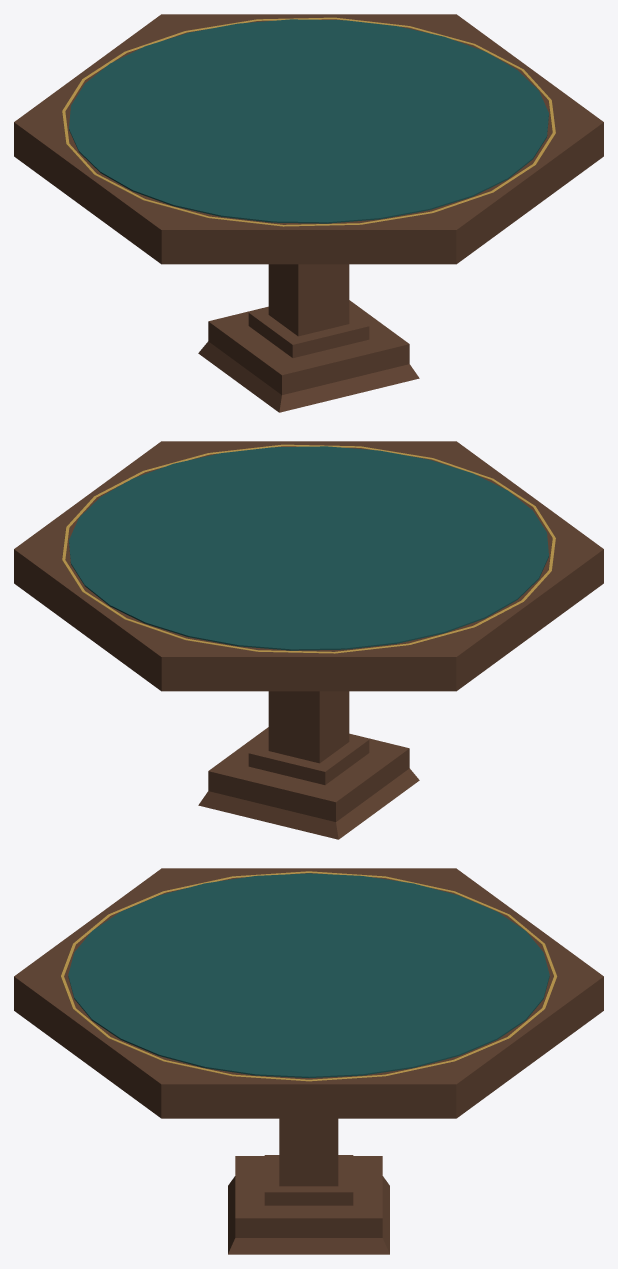
File: tableRound.glb
The picture shows the model from 3 angles, top to bottom: view 1: azimuth 30°, elevation 25°; view 2: azimuth 150°, elevation 25°; view 3: azimuth 270°, elevation 25°; orthographic projection.
Parts seen in each view (by area): view 1: tableRound(Clone); view 2: tableRound(Clone); view 3: tableRound(Clone).
Part boxes in pixels (x1=…): tableRound(Clone): x1=14, y1=14, x2=603, y2=412; tableRound(Clone): x1=14, y1=441, x2=603, y2=839; tableRound(Clone): x1=14, y1=868, x2=603, y2=1254.
Bounding box in the file's own units: 0.6928 × 0.3667 × 0.8.
